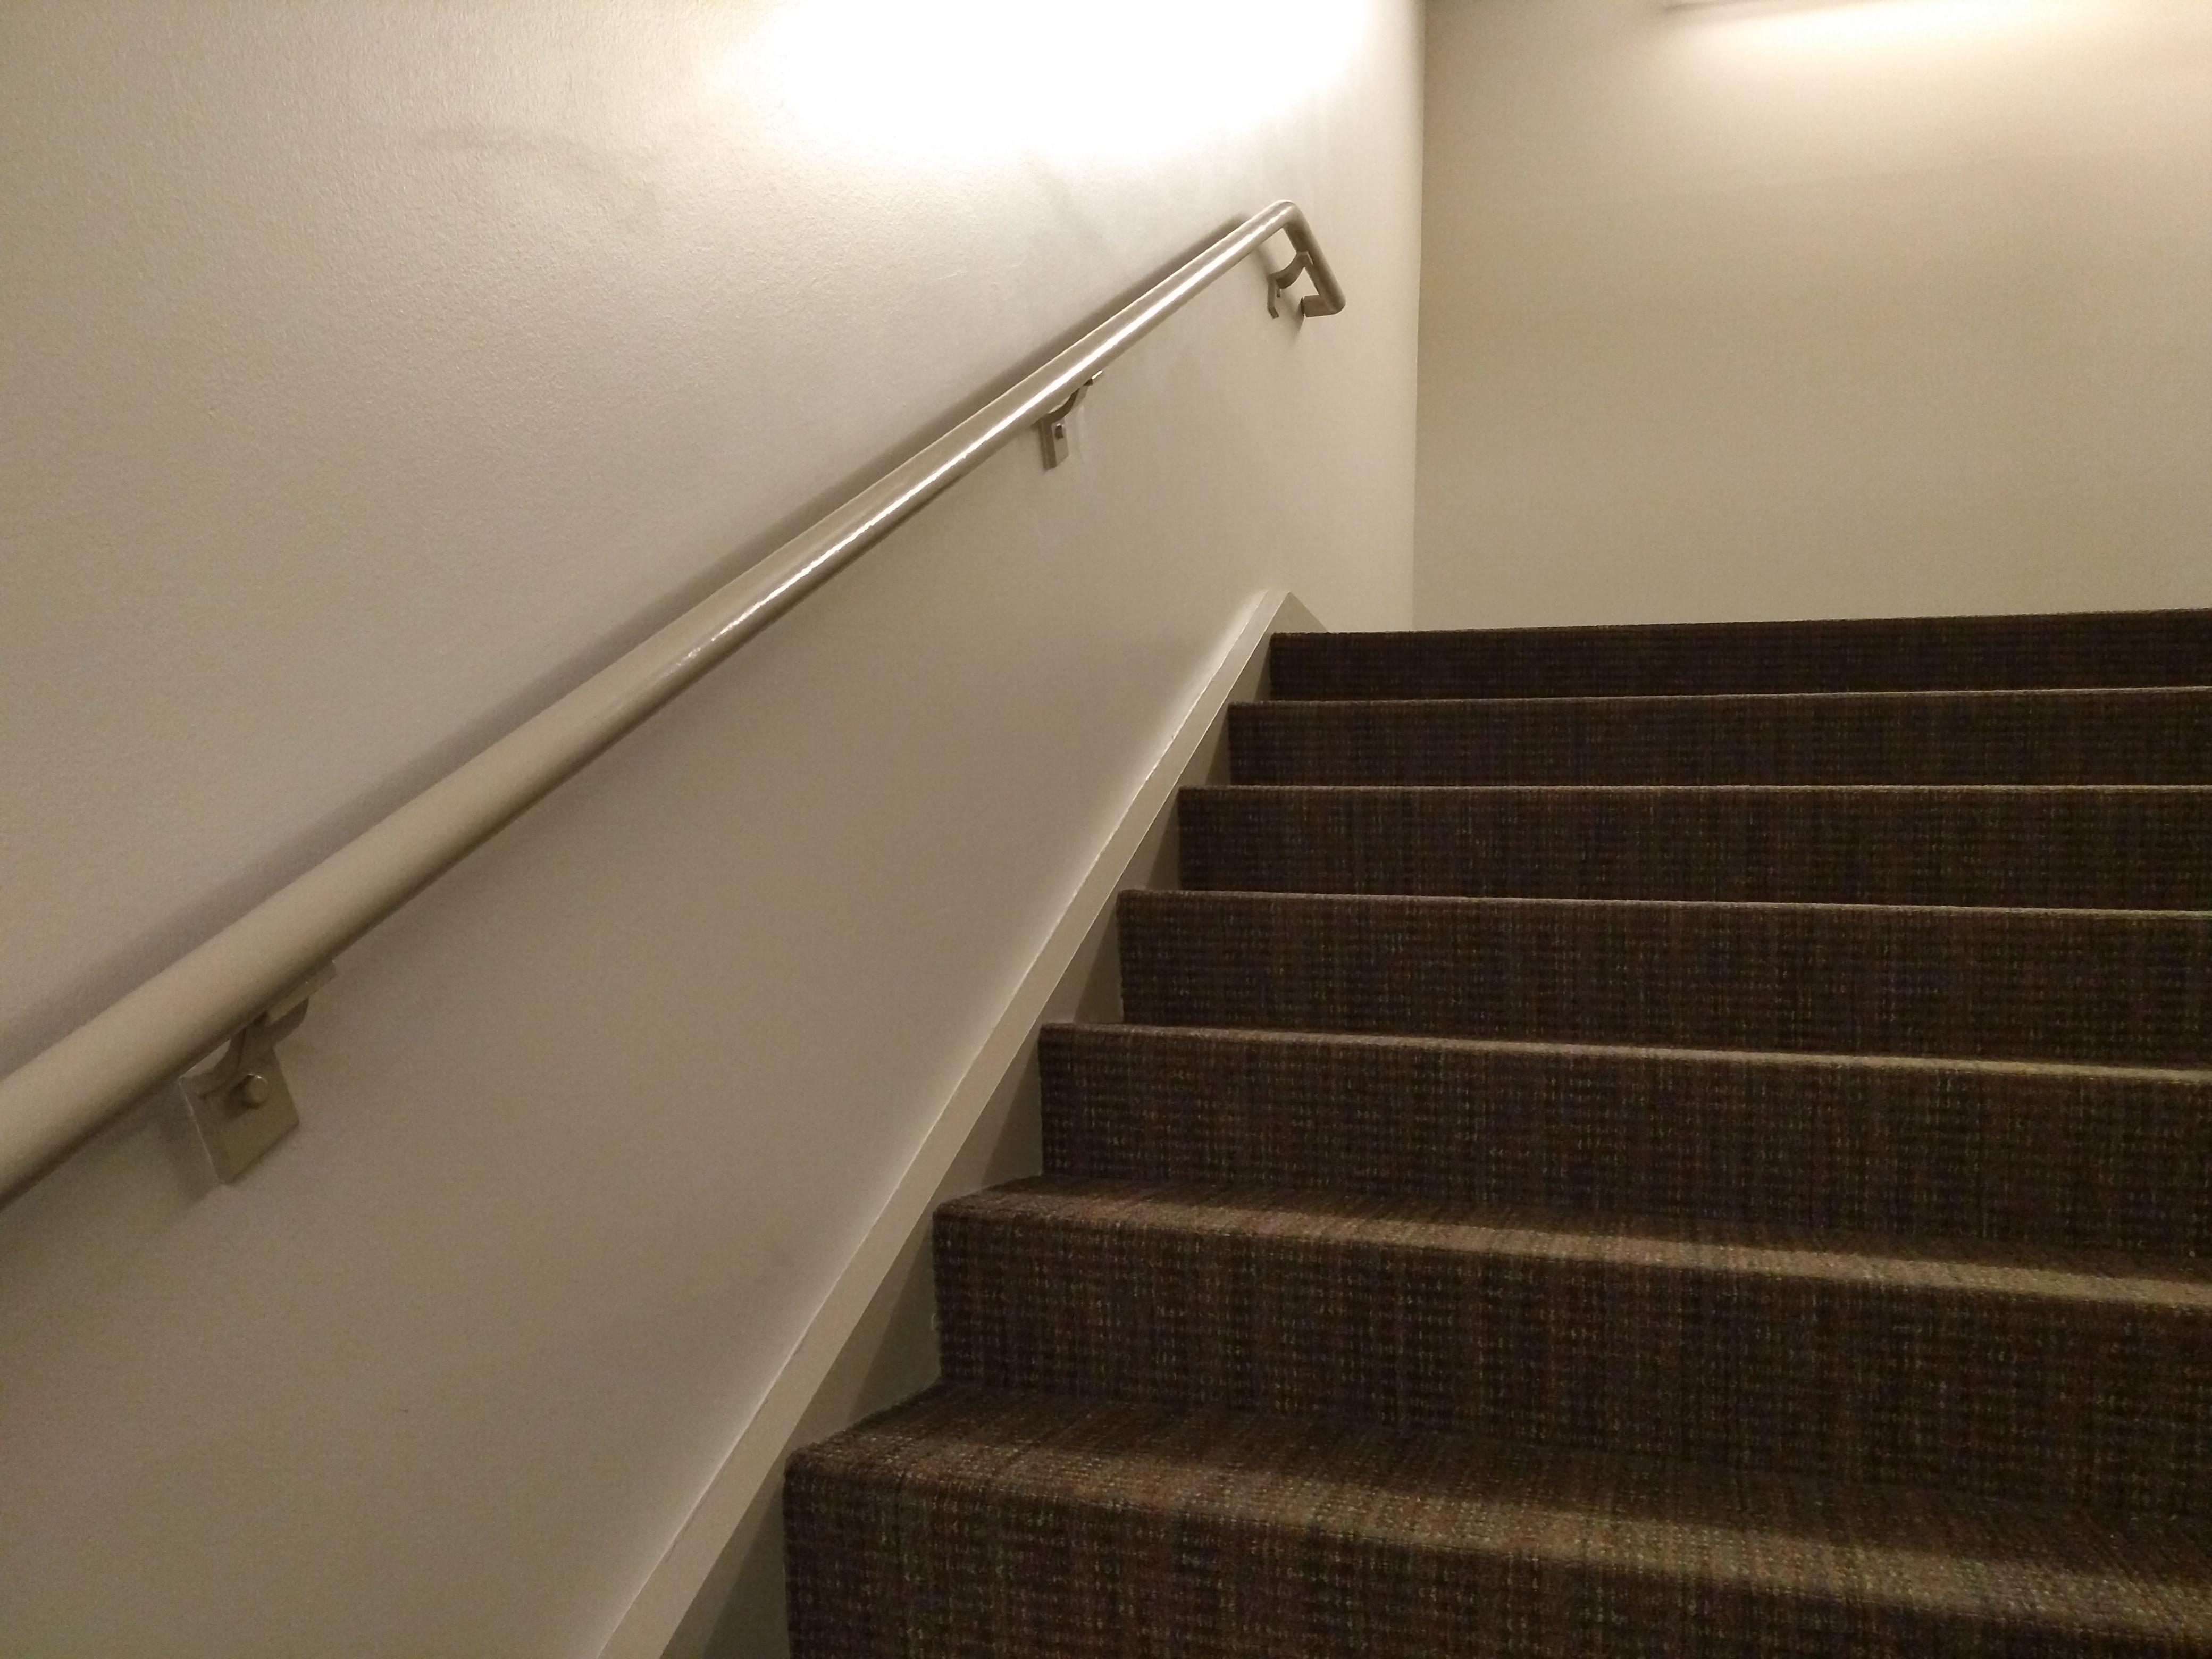stairs_up: (752, 586, 2212, 1659)
